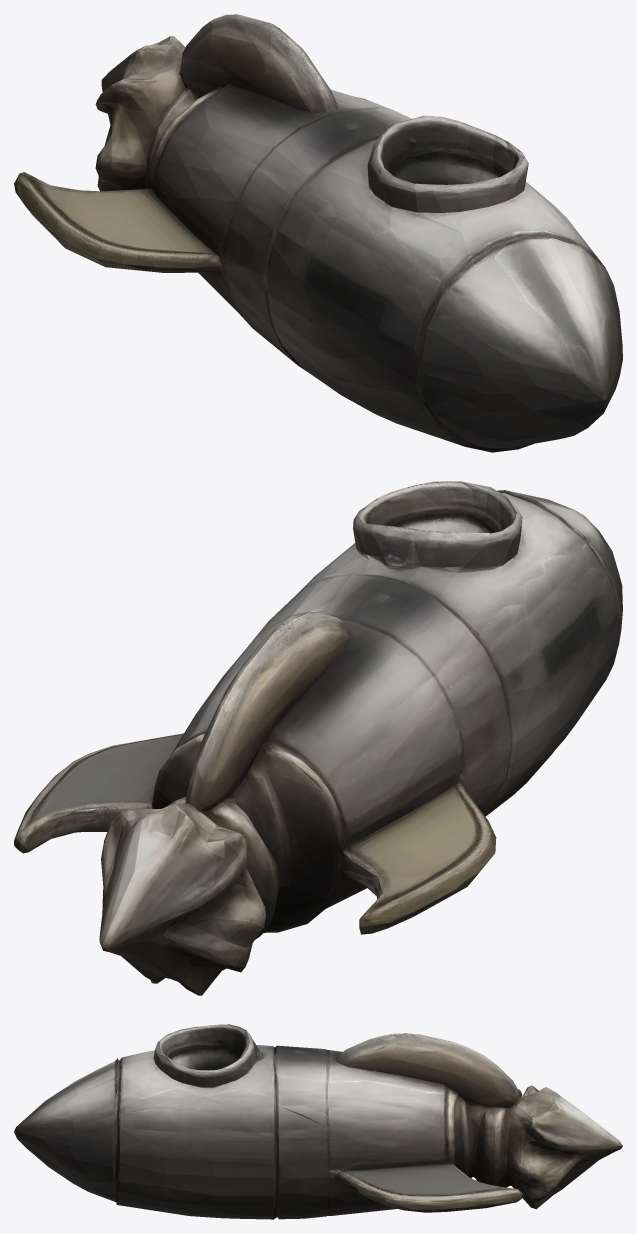
File: sneaker.glb
3 renders of one model, top to bottom at view 1: azimuth 30°, elevation 25°; view 2: azimuth 150°, elevation 25°; view 3: azimuth 270°, elevation 25°, orthographic. The views are drawn at different scales.
Parts seen in each view (by area): view 1: world; view 2: world; view 3: world.
Part boxes in pixels (x1,y1,x2,y2): world: [14, 14, 622, 452]; world: [14, 481, 622, 995]; world: [14, 1024, 622, 1219].
Bounding box in the file's own units: 0.4711 × 0.319 × 0.998.
1 material, 1 textured.
